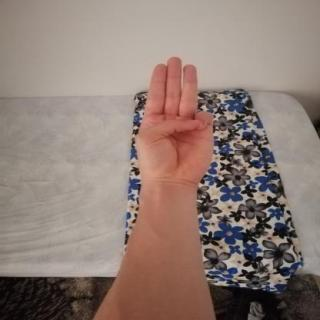THA: (124, 48, 226, 194)
